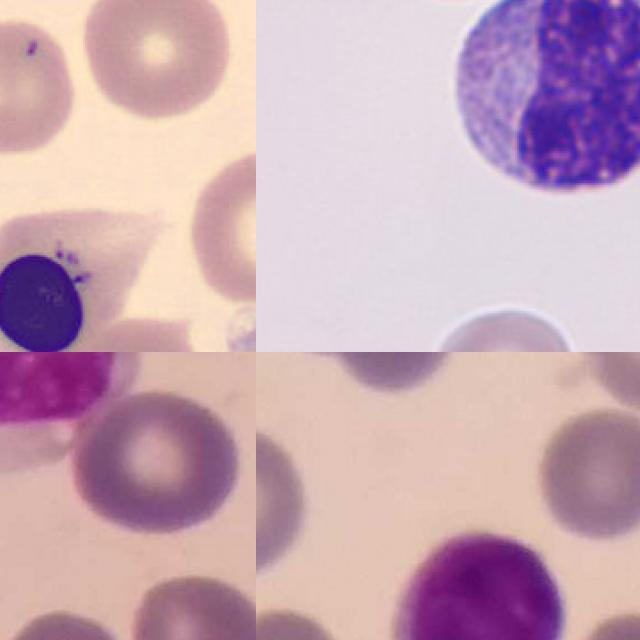Lymphocyte: (437, 0, 640, 211), (0, 200, 180, 352), (382, 534, 565, 640)
Monocyte: (0, 352, 135, 482)
RBC: (76, 0, 236, 125), (177, 142, 256, 313), (0, 10, 81, 161), (423, 296, 585, 352), (46, 308, 206, 352)
